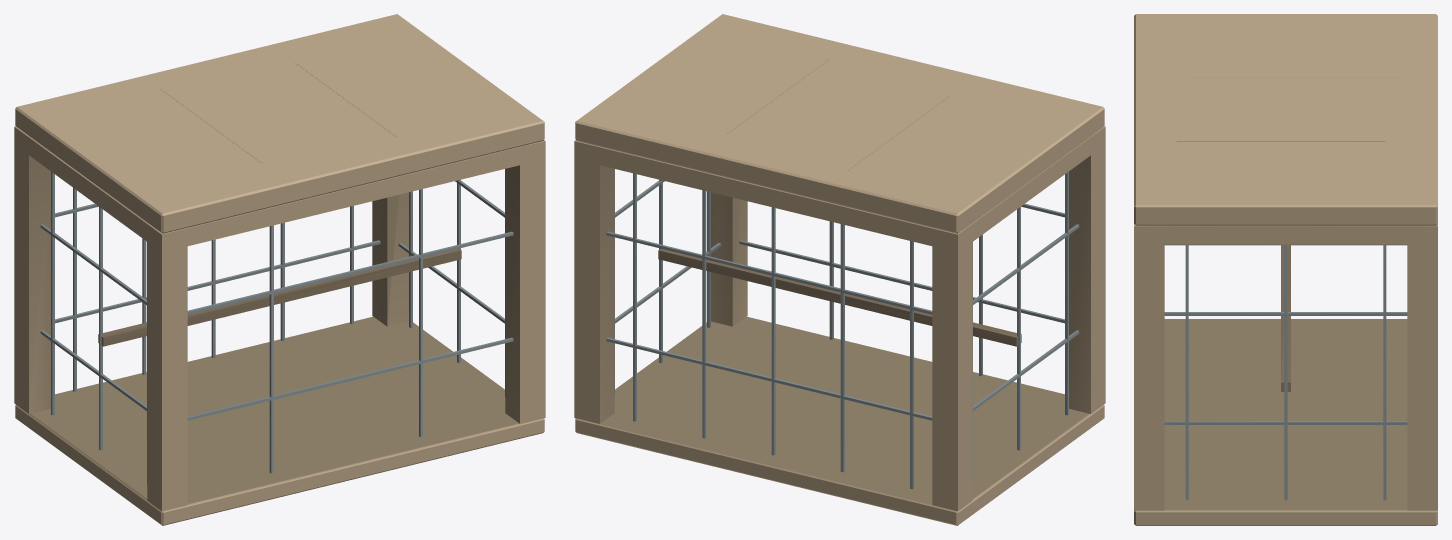
The model's file is furn_insect_case_desk__oak_low.glb.
The picture shows the model from 3 angles, left to right: view 1: azimuth 30°, elevation 25°; view 2: azimuth 150°, elevation 25°; view 3: azimuth 270°, elevation 25°; orthographic projection. The views are drawn at different scales.
Bounding box in the file's own units: 0.36 × 0.2801 × 0.24.
